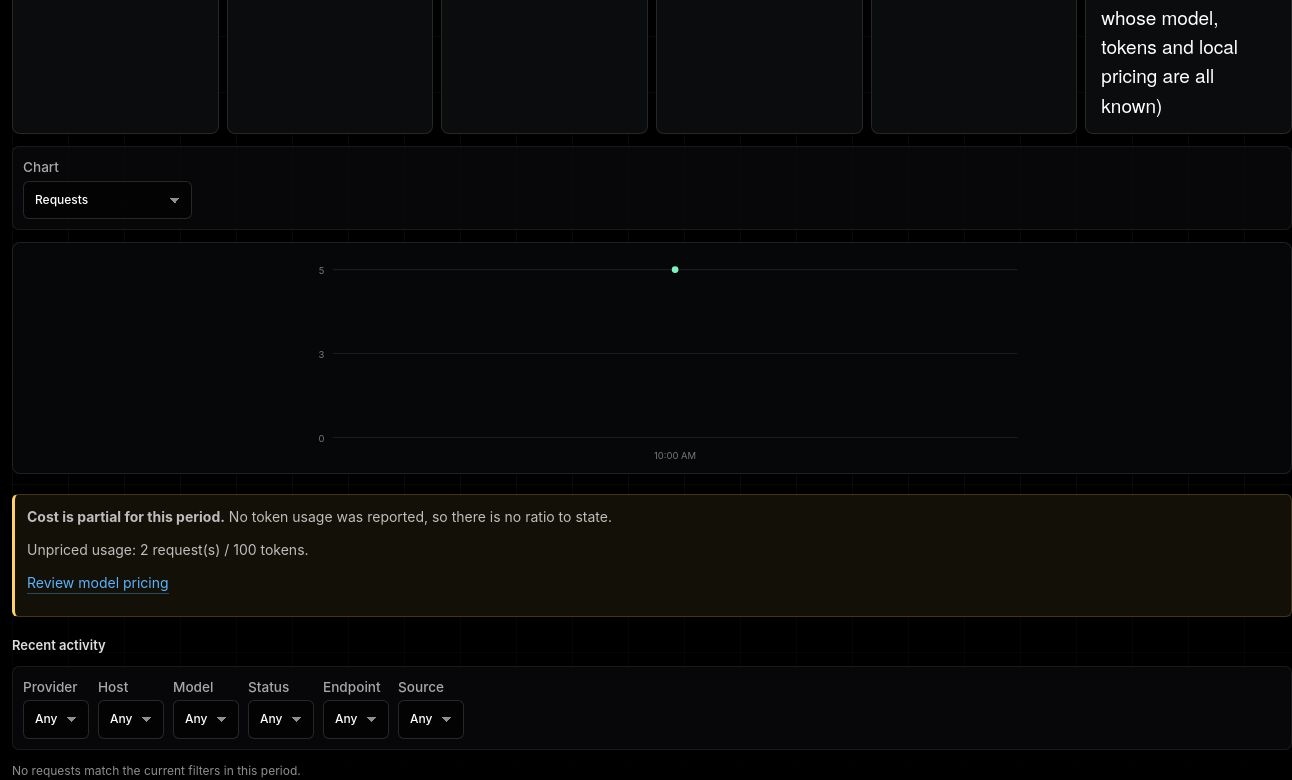
Scenario: ProjectActivity › lists which models lack a price in an advanced drill-down
(page scrolled)
expect the text "gpt-mystery" is not shown: met
Click the button "Review model pricing": coordinates (98, 583) x1=27 y1=572 x2=169 y2=594
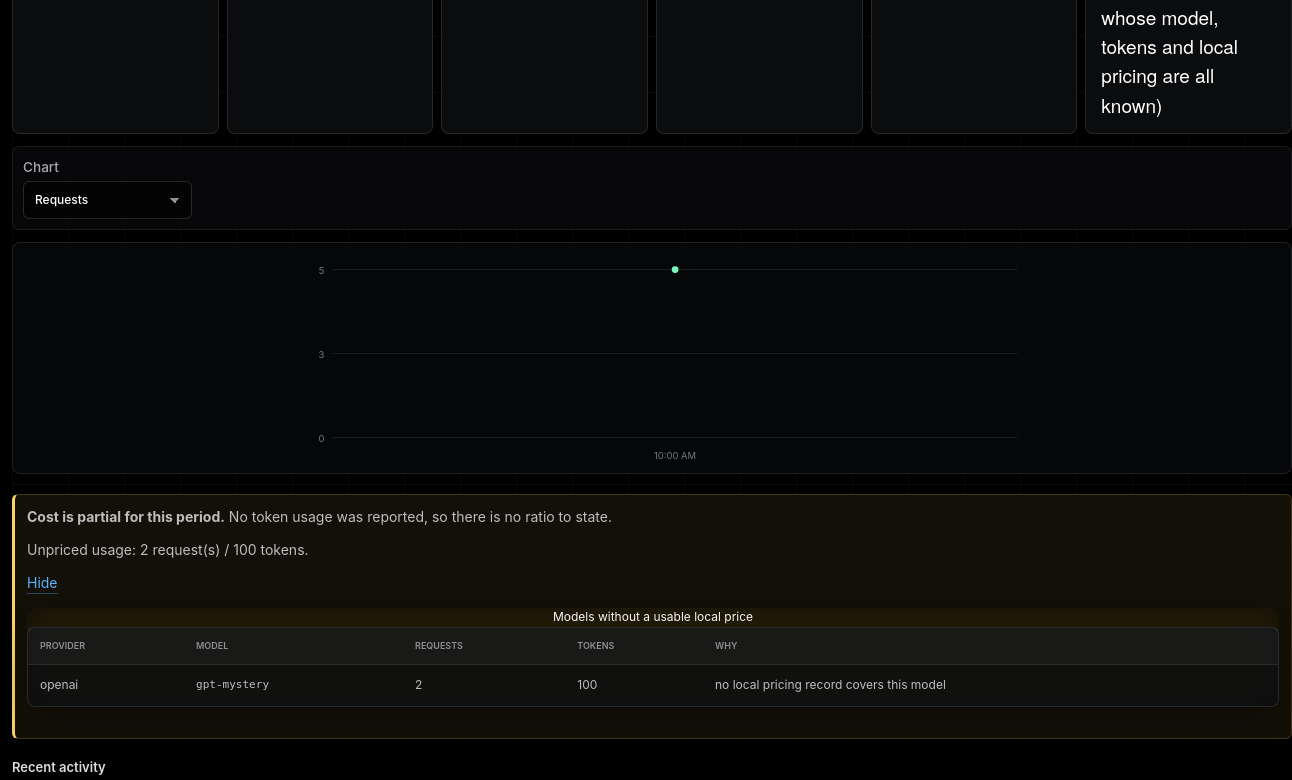
expect the text "gpt-mystery" is shown: met, box x1=184 y1=665 x2=403 y2=706
expect the text "no local pricing record covers this model" is shown: met, box x1=703 y1=665 x2=1278 y2=706
